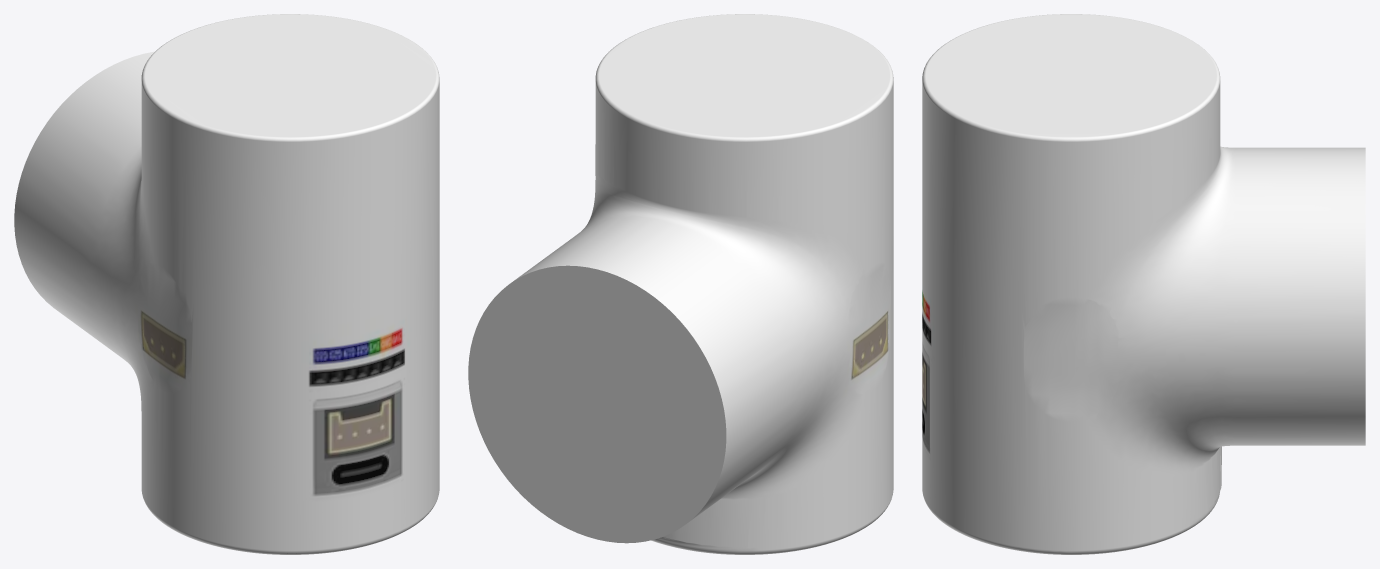
The model's file is joint6.glb.
3 views of the same model, side by side, from view 1: azimuth 30°, elevation 25°; view 2: azimuth 150°, elevation 25°; view 3: azimuth 270°, elevation 25° (orthographic).
Visible parts, largest first — view 1: shape0-lib; view 2: shape0-lib; view 3: shape0-lib.
Boxes of the visible parts, x1,y1,x2,y2 form: shape0-lib: (14, 14, 439, 554); shape0-lib: (468, 14, 893, 554); shape0-lib: (922, 14, 1365, 554).
Size of the model in its own units: 0.0384 by 0.0595 by 0.0571.
Materials: 1 (1 with a texture image).
